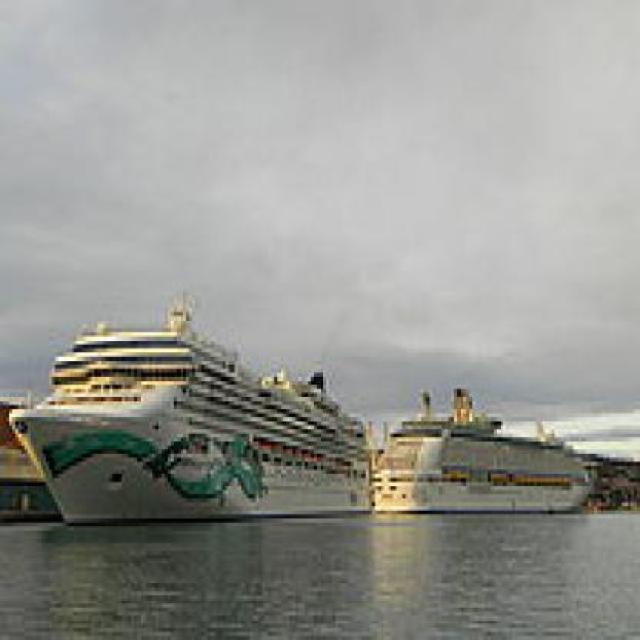cruise: (8, 281, 385, 539), (373, 378, 614, 532)
